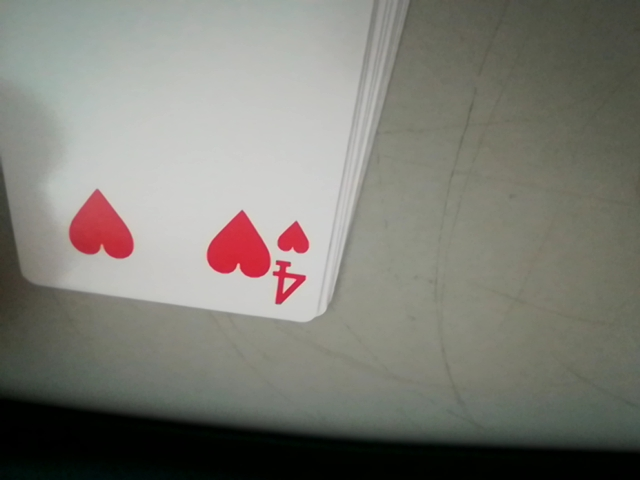hx 4: (272, 218, 312, 308)
